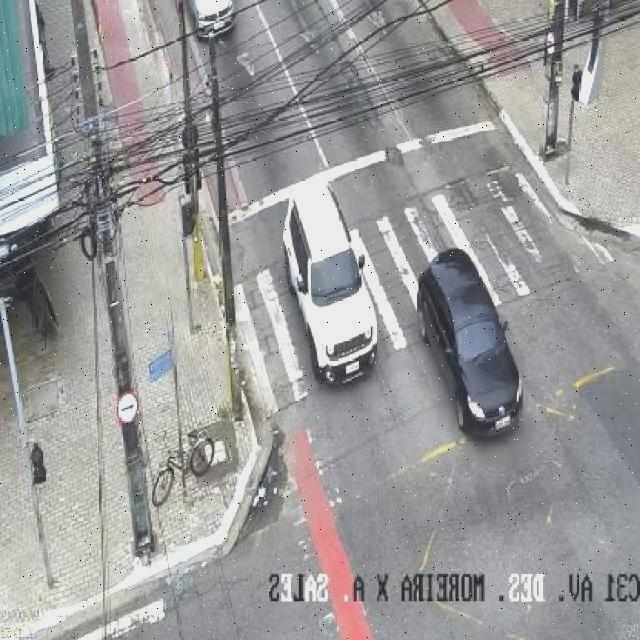Car: (408, 237, 530, 451), (273, 183, 388, 387), (176, 0, 241, 66)
